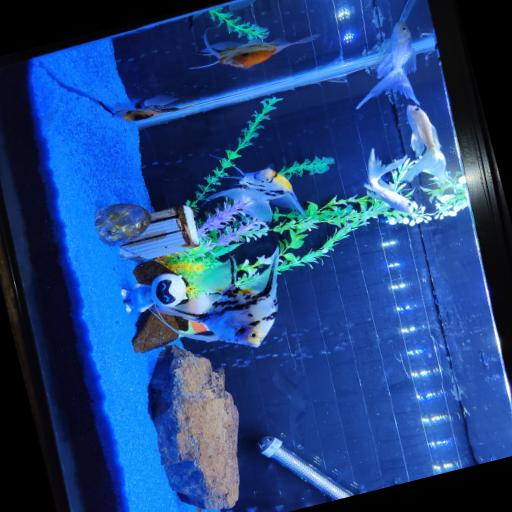Fish: (151, 249, 278, 347), (356, 23, 419, 109), (207, 166, 303, 222), (190, 31, 318, 69), (404, 105, 445, 182), (364, 149, 413, 213), (99, 95, 186, 121)
